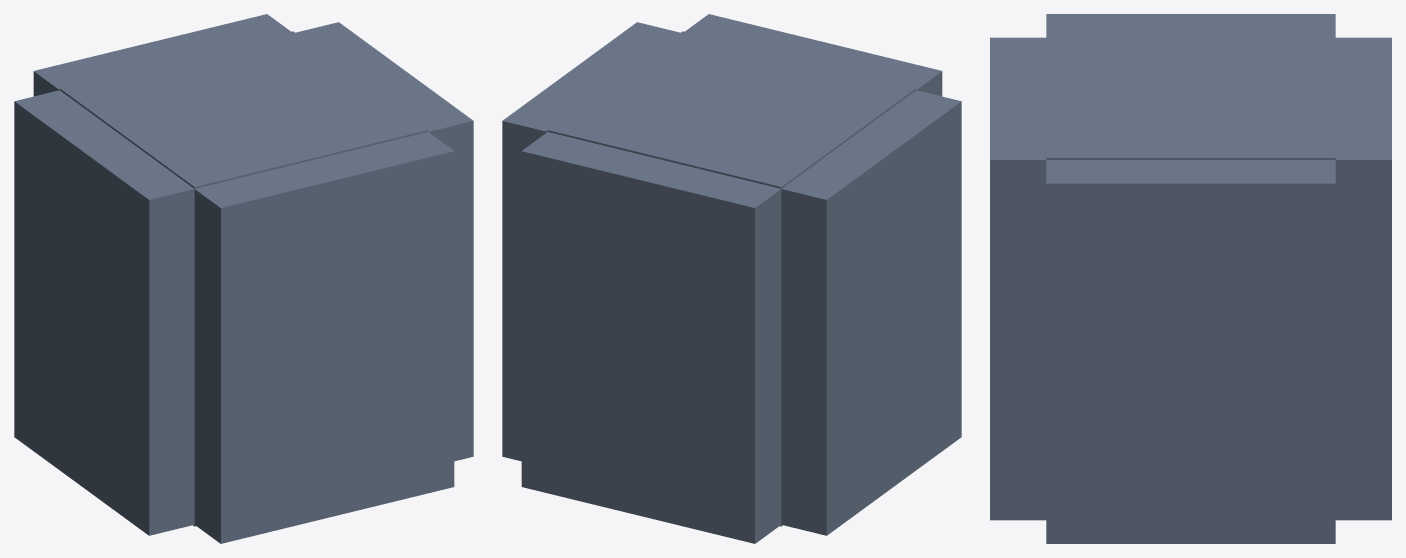
File: bb_comp_GripRig_CounterweightGuide.fbx
The picture shows the model from 3 angles, left to right: view 1: azimuth 30°, elevation 25°; view 2: azimuth 150°, elevation 25°; view 3: azimuth 270°, elevation 25°; orthographic projection. The views are drawn at different scales.
Visible parts, largest first — view 1: bb_comp_GripRig_CounterweightGuide; view 2: bb_comp_GripRig_CounterweightGuide; view 3: bb_comp_GripRig_CounterweightGuide.
Boxes of the visible parts, x1,y1,x2,y2 form: bb_comp_GripRig_CounterweightGuide: (14,14,473,543); bb_comp_GripRig_CounterweightGuide: (502,14,961,543); bb_comp_GripRig_CounterweightGuide: (990,14,1391,543).
Bounding box in the file's own units: 1 × 1 × 1.
